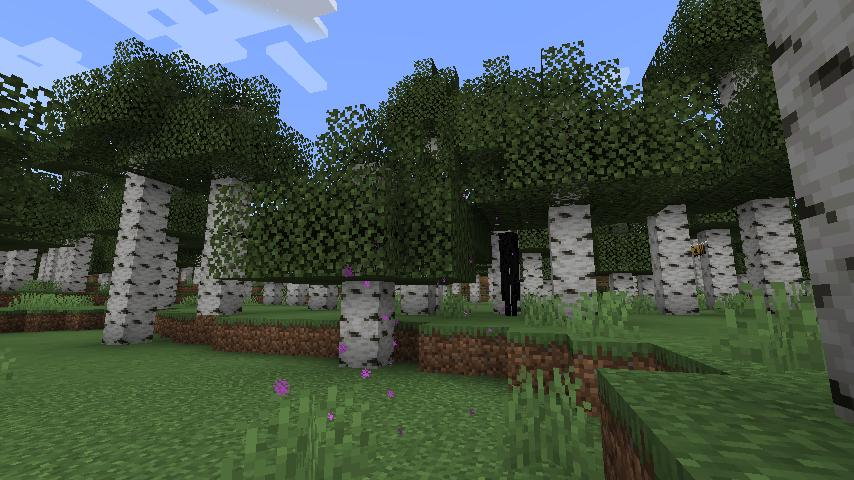enderman: (496, 229, 527, 319)
